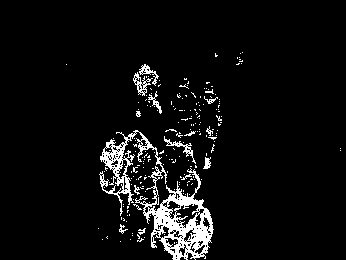person: (153, 170, 214, 260), (127, 133, 161, 241), (160, 128, 197, 226), (103, 132, 136, 236), (198, 80, 222, 171), (134, 62, 164, 126), (174, 78, 199, 150)
